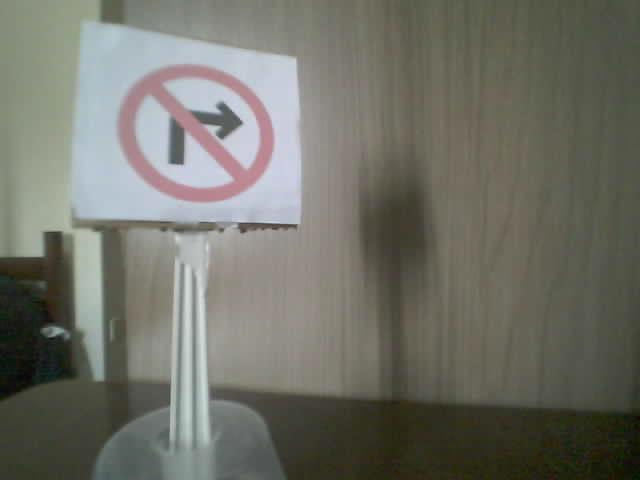R-4b_proibido-direita: (116, 63, 272, 202)
